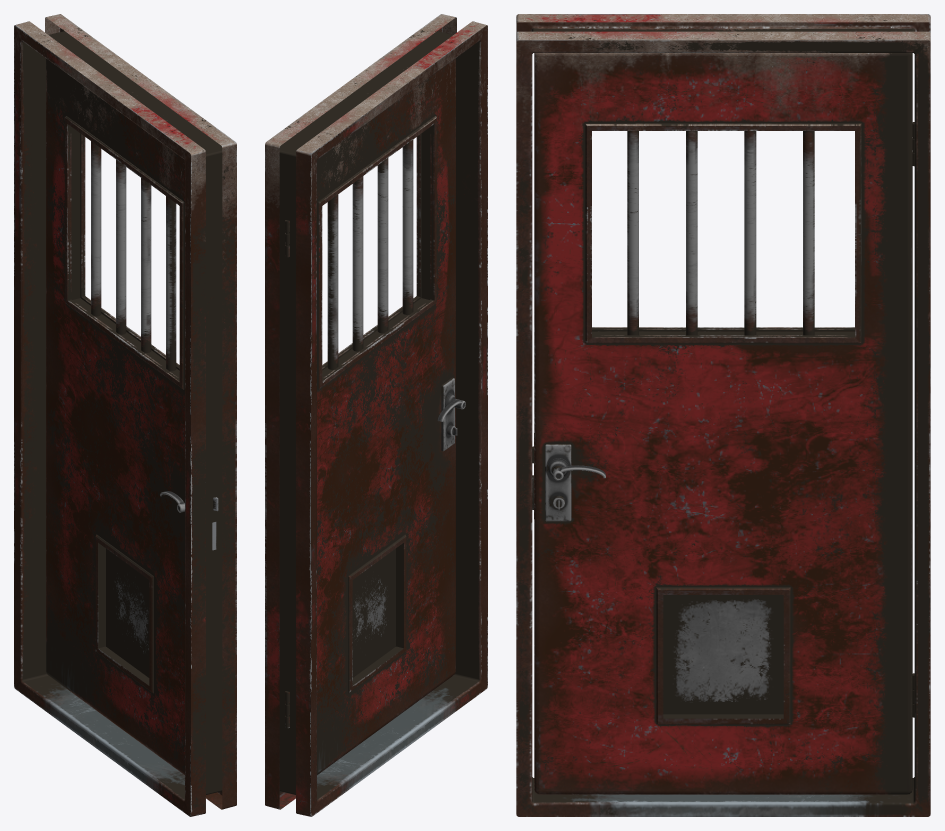
Rendered from door1.fbx.
3 views of the same model, side by side, from view 1: azimuth 30°, elevation 25°; view 2: azimuth 150°, elevation 25°; view 3: azimuth 270°, elevation 25° (orthographic). The views are drawn at different scales.
Parts seen in each view (by area): view 1: prison_door_2_3, prison_door_2_2; view 2: prison_door_2_3, prison_door_2_2; view 3: prison_door_2_3, prison_door_2_2.
Boxes of the visible parts, x1,y1,x2,y2 form: prison_door_2_3: (46,58,218,774); prison_door_2_2: (14,14,236,816); prison_door_2_3: (285,58,465,774); prison_door_2_2: (265,14,487,816); prison_door_2_3: (532,53,914,794); prison_door_2_2: (516,14,930,816).
Bounding box in the file's own units: 23.33 × 278 × 135.
1 material, 1 textured.
